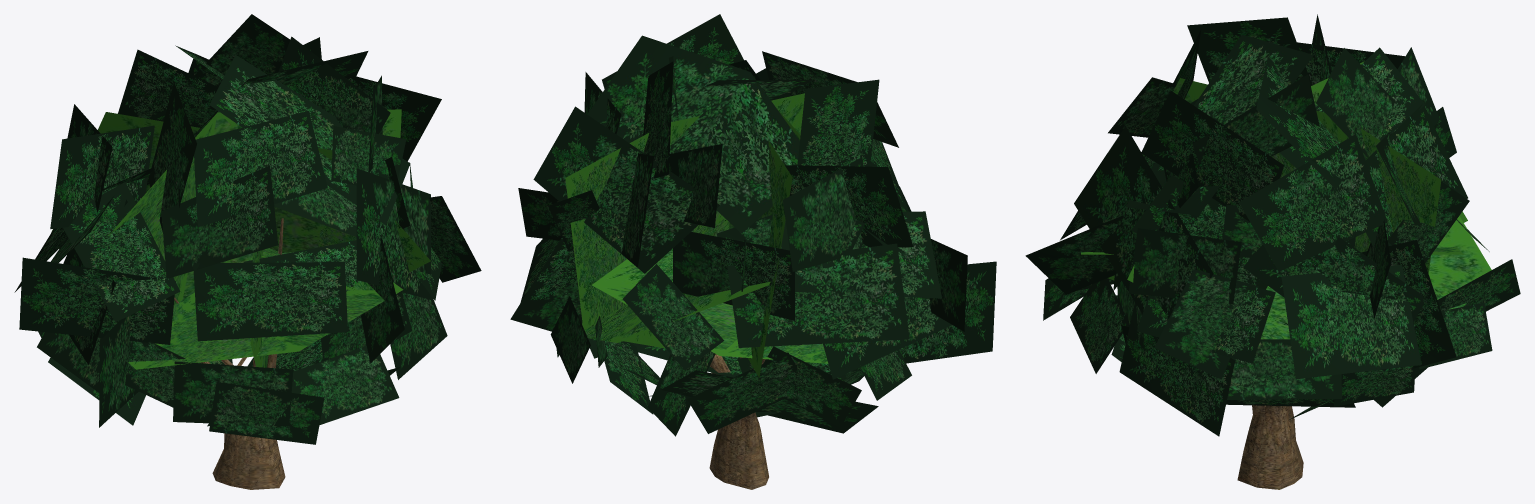
The model's file is gen_tree_b.fbx.
The picture shows the model from 3 angles, left to right: view 1: azimuth 30°, elevation 25°; view 2: azimuth 150°, elevation 25°; view 3: azimuth 270°, elevation 25°; orthographic projection. The views are drawn at different scales.
Visible parts, largest first — view 1: center_y4, gen_b_leaves_leaves_179, gen_b_leaves_leaves_76, gen_b_leaves_leaves_199, gen_b_leaves_leaves_202, gen_b_leaves_leaves_75, gen_b_leaves_leaves_80, gen_b_leaves_leaves_208, gen_b_leaves_leaves_88, gen_b_leaves_leaves_158, gen_b_leaves_leaves_170, gen_b_leaves_leaves_164 (+26 smaller); view 2: gen_b_leaves_leaves_151, center_y4, gen_b_leaves_leaves_192, gen_b_leaves_leaves_231, gen_b_leaves_leaves_121, gen_b_leaves_leaves_148, gen_b_leaves_leaves_150, gen_b_leaves_leaves_114, gen_b_leaves_leaves_208, gen_b_leaves_leaves_102, gen_b_leaves_leaves_187, trunk (+23 smaller); view 3: gen_b_leaves_leaves_130, gen_b_leaves_leaves_63, center_y4, gen_b_leaves_leaves_80, gen_b_leaves_leaves_210, gen_b_leaves_leaves_88, gen_b_leaves_leaves_45, gen_b_leaves_leaves_50, gen_b_leaves_leaves_177, gen_b_leaves_leaves_61, gen_b_leaves_leaves_42, trunk (+27 smaller).
Part boxes in pixels (<box>): center_y4: <box>51,109,430,369</box>; gen_b_leaves_leaves_179: <box>193,262,347,341</box>; gen_b_leaves_leaves_76: <box>194,111,327,227</box>; gen_b_leaves_leaves_199: <box>19,257,175,344</box>; gen_b_leaves_leaves_202: <box>63,182,180,321</box>; gen_b_leaves_leaves_75: <box>161,165,278,278</box>; gen_b_leaves_leaves_80: <box>356,168,430,299</box>; gen_b_leaves_leaves_208: <box>50,125,154,229</box>; gen_b_leaves_leaves_88: <box>209,55,410,224</box>; gen_b_leaves_leaves_158: <box>209,382,324,444</box>; gen_b_leaves_leaves_170: <box>291,346,399,425</box>; gen_b_leaves_leaves_164: <box>173,361,293,426</box>; gen_b_leaves_leaves_151: <box>587,35,799,233</box>; center_y4: <box>565,93,828,377</box>; gen_b_leaves_leaves_192: <box>727,243,909,347</box>; gen_b_leaves_leaves_231: <box>533,106,719,273</box>; gen_b_leaves_leaves_121: <box>673,232,794,320</box>; gen_b_leaves_leaves_148: <box>797,79,879,166</box>; gen_b_leaves_leaves_150: <box>783,157,863,271</box>; gen_b_leaves_leaves_114: <box>623,264,723,369</box>; gen_b_leaves_leaves_208: <box>785,165,913,247</box>; gen_b_leaves_leaves_102: <box>687,352,797,433</box>; gen_b_leaves_leaves_187: <box>899,261,996,363</box>; trunk: <box>709,354,768,489</box>; gen_b_leaves_leaves_130: <box>1239,134,1387,271</box>; gen_b_leaves_leaves_63: <box>1281,265,1421,379</box>; center_y4: <box>1081,61,1491,339</box>; gen_b_leaves_leaves_80: <box>1074,126,1213,339</box>; gen_b_leaves_leaves_210: <box>1141,90,1283,221</box>; gen_b_leaves_leaves_88: <box>1125,35,1313,215</box>; gen_b_leaves_leaves_45: <box>1119,302,1235,436</box>; gen_b_leaves_leaves_50: <box>1154,269,1258,379</box>; gen_b_leaves_leaves_177: <box>1128,228,1241,303</box>; gen_b_leaves_leaves_61: <box>1243,237,1423,371</box>; gen_b_leaves_leaves_42: <box>1227,339,1342,399</box>; trunk: <box>1237,405,1303,489</box>.
Size of the model in its own units: 9366 by 9093 by 9177.
Materials: 2 (2 with a texture image).
